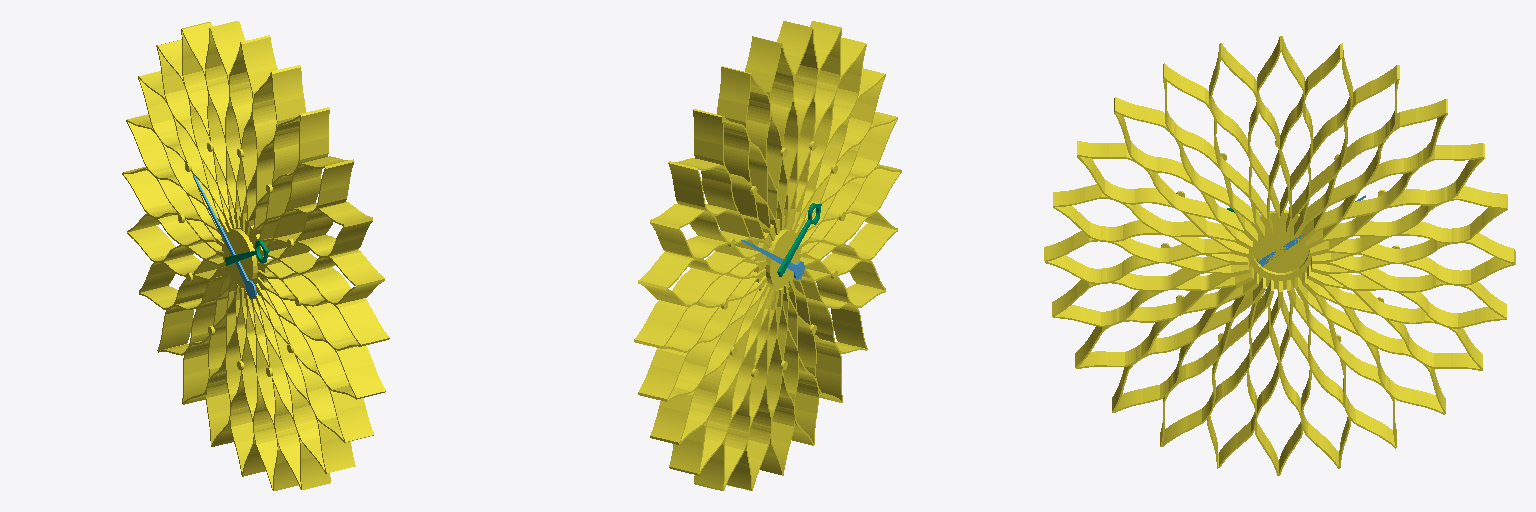
robot.urdf — partnet_de0a333f86fd60713b48a711df82173e:
<?xml version="1.0" ?>
<robot name="partnet_de0a333f86fd60713b48a711df82173e">
	<link name="base"/>
	<link name="link_0">
		<visual name="hand-4">
			<origin xyz="0.07464732501185387 0.04285152069375747 -0.10200399999999998"/>
			<geometry>
				<mesh filename="textured_objs/original-14.obj"/>
			</geometry>
		</visual>
		<collision>
			<origin xyz="0.07464732501185387 0.04285152069375747 -0.10200399999999998"/>
			<geometry>
				<mesh filename="textured_objs/original-14.obj"/>
			</geometry>
		</collision>
	</link>
	<joint name="joint_0" type="continuous">
		<origin xyz="-0.07464732501185387 -0.04285152069375747 0.10200399999999998"/>
		<axis xyz="0 0 1"/>
		<child link="link_0"/>
		<parent link="link_2"/>
	</joint>
	<link name="link_1">
		<visual name="hand-5">
			<origin xyz="0.07464732501185387 0.04285152069375747 -0.10200399999999998"/>
			<geometry>
				<mesh filename="textured_objs/original-13.obj"/>
			</geometry>
		</visual>
		<collision>
			<origin xyz="0.07464732501185387 0.04285152069375747 -0.10200399999999998"/>
			<geometry>
				<mesh filename="textured_objs/original-13.obj"/>
			</geometry>
		</collision>
	</link>
	<joint name="joint_1" type="continuous">
		<origin xyz="-0.07464732501185387 -0.04285152069375747 0.10200399999999998"/>
		<axis xyz="0 0 1"/>
		<child link="link_1"/>
		<parent link="link_2"/>
	</joint>
	<link name="link_2">
		<visual name="frame-3">
			<origin xyz="0 0 0"/>
			<geometry>
				<mesh filename="textured_objs/original-41.obj"/>
			</geometry>
		</visual>
		<visual name="frame-3">
			<origin xyz="0 0 0"/>
			<geometry>
				<mesh filename="textured_objs/original-37.obj"/>
			</geometry>
		</visual>
		<visual name="frame-3">
			<origin xyz="0 0 0"/>
			<geometry>
				<mesh filename="textured_objs/original-22.obj"/>
			</geometry>
		</visual>
		<visual name="frame-3">
			<origin xyz="0 0 0"/>
			<geometry>
				<mesh filename="textured_objs/original-34.obj"/>
			</geometry>
		</visual>
		<visual name="frame-3">
			<origin xyz="0 0 0"/>
			<geometry>
				<mesh filename="textured_objs/original-35.obj"/>
			</geometry>
		</visual>
		<visual name="frame-3">
			<origin xyz="0 0 0"/>
			<geometry>
				<mesh filename="textured_objs/original-18.obj"/>
			</geometry>
		</visual>
		<visual name="frame-3">
			<origin xyz="0 0 0"/>
			<geometry>
				<mesh filename="textured_objs/original-21.obj"/>
			</geometry>
		</visual>
		<visual name="frame-3">
			<origin xyz="0 0 0"/>
			<geometry>
				<mesh filename="textured_objs/original-15.obj"/>
			</geometry>
		</visual>
		<visual name="frame-3">
			<origin xyz="0 0 0"/>
			<geometry>
				<mesh filename="textured_objs/original-16.obj"/>
			</geometry>
		</visual>
		<visual name="frame-3">
			<origin xyz="0 0 0"/>
			<geometry>
				<mesh filename="textured_objs/original-32.obj"/>
			</geometry>
		</visual>
		<visual name="frame-3">
			<origin xyz="0 0 0"/>
			<geometry>
				<mesh filename="textured_objs/original-24.obj"/>
			</geometry>
		</visual>
		<visual name="frame-3">
			<origin xyz="0 0 0"/>
			<geometry>
				<mesh filename="textured_objs/original-40.obj"/>
			</geometry>
		</visual>
		<visual name="frame-3">
			<origin xyz="0 0 0"/>
			<geometry>
				<mesh filename="textured_objs/original-19.obj"/>
			</geometry>
		</visual>
		<visual name="frame-3">
			<origin xyz="0 0 0"/>
			<geometry>
				<mesh filename="textured_objs/original-38.obj"/>
			</geometry>
		</visual>
		<visual name="frame-3">
			<origin xyz="0 0 0"/>
			<geometry>
				<mesh filename="textured_objs/original-36.obj"/>
			</geometry>
		</visual>
		<visual name="frame-3">
			<origin xyz="0 0 0"/>
			<geometry>
				<mesh filename="textured_objs/original-33.obj"/>
			</geometry>
		</visual>
		<visual name="frame-3">
			<origin xyz="0 0 0"/>
			<geometry>
				<mesh filename="textured_objs/original-26.obj"/>
			</geometry>
		</visual>
		<visual name="frame-3">
			<origin xyz="0 0 0"/>
			<geometry>
				<mesh filename="textured_objs/original-25.obj"/>
			</geometry>
		</visual>
		<visual name="frame-3">
			<origin xyz="0 0 0"/>
			<geometry>
				<mesh filename="textured_objs/original-29.obj"/>
			</geometry>
		</visual>
		<visual name="frame-3">
			<origin xyz="0 0 0"/>
			<geometry>
				<mesh filename="textured_objs/original-27.obj"/>
			</geometry>
		</visual>
		<visual name="frame-3">
			<origin xyz="0 0 0"/>
			<geometry>
				<mesh filename="textured_objs/original-20.obj"/>
			</geometry>
		</visual>
		<visual name="frame-3">
			<origin xyz="0 0 0"/>
			<geometry>
				<mesh filename="textured_objs/original-30.obj"/>
			</geometry>
		</visual>
		<visual name="frame-3">
			<origin xyz="0 0 0"/>
			<geometry>
				<mesh filename="textured_objs/original-39.obj"/>
			</geometry>
		</visual>
		<visual name="frame-3">
			<origin xyz="0 0 0"/>
			<geometry>
				<mesh filename="textured_objs/original-28.obj"/>
			</geometry>
		</visual>
		<visual name="frame-3">
			<origin xyz="0 0 0"/>
			<geometry>
				<mesh filename="textured_objs/original-31.obj"/>
			</geometry>
		</visual>
		<visual name="surface-6">
			<origin xyz="0 0 0"/>
			<geometry>
				<mesh filename="textured_objs/original-42.obj"/>
			</geometry>
		</visual>
		<visual name="surface-6">
			<origin xyz="0 0 0"/>
			<geometry>
				<mesh filename="textured_objs/original-2.obj"/>
			</geometry>
		</visual>
		<visual name="surface-6">
			<origin xyz="0 0 0"/>
			<geometry>
				<mesh filename="textured_objs/original-3.obj"/>
			</geometry>
		</visual>
		<visual name="surface-6">
			<origin xyz="0 0 0"/>
			<geometry>
				<mesh filename="textured_objs/original-4.obj"/>
			</geometry>
		</visual>
		<visual name="surface-6">
			<origin xyz="0 0 0"/>
			<geometry>
				<mesh filename="textured_objs/original-5.obj"/>
			</geometry>
		</visual>
		<visual name="surface-6">
			<origin xyz="0 0 0"/>
			<geometry>
				<mesh filename="textured_objs/original-1.obj"/>
			</geometry>
		</visual>
		<visual name="surface-6">
			<origin xyz="0 0 0"/>
			<geometry>
				<mesh filename="textured_objs/original-12.obj"/>
			</geometry>
		</visual>
		<visual name="surface-6">
			<origin xyz="0 0 0"/>
			<geometry>
				<mesh filename="textured_objs/original-11.obj"/>
			</geometry>
		</visual>
		<visual name="surface-6">
			<origin xyz="0 0 0"/>
			<geometry>
				<mesh filename="textured_objs/original-10.obj"/>
			</geometry>
		</visual>
		<visual name="surface-6">
			<origin xyz="0 0 0"/>
			<geometry>
				<mesh filename="textured_objs/original-9.obj"/>
			</geometry>
		</visual>
		<visual name="surface-6">
			<origin xyz="0 0 0"/>
			<geometry>
				<mesh filename="textured_objs/original-8.obj"/>
			</geometry>
		</visual>
		<visual name="surface-6">
			<origin xyz="0 0 0"/>
			<geometry>
				<mesh filename="textured_objs/original-7.obj"/>
			</geometry>
		</visual>
		<visual name="surface-6">
			<origin xyz="0 0 0"/>
			<geometry>
				<mesh filename="textured_objs/original-6.obj"/>
			</geometry>
		</visual>
		<collision>
			<origin xyz="0 0 0"/>
			<geometry>
				<mesh filename="textured_objs/original-41.obj"/>
			</geometry>
		</collision>
		<collision>
			<origin xyz="0 0 0"/>
			<geometry>
				<mesh filename="textured_objs/original-37.obj"/>
			</geometry>
		</collision>
		<collision>
			<origin xyz="0 0 0"/>
			<geometry>
				<mesh filename="textured_objs/original-22.obj"/>
			</geometry>
		</collision>
		<collision>
			<origin xyz="0 0 0"/>
			<geometry>
				<mesh filename="textured_objs/original-34.obj"/>
			</geometry>
		</collision>
		<collision>
			<origin xyz="0 0 0"/>
			<geometry>
				<mesh filename="textured_objs/original-35.obj"/>
			</geometry>
		</collision>
		<collision>
			<origin xyz="0 0 0"/>
			<geometry>
				<mesh filename="textured_objs/original-18.obj"/>
			</geometry>
		</collision>
		<collision>
			<origin xyz="0 0 0"/>
			<geometry>
				<mesh filename="textured_objs/original-21.obj"/>
			</geometry>
		</collision>
		<collision>
			<origin xyz="0 0 0"/>
			<geometry>
				<mesh filename="textured_objs/original-15.obj"/>
			</geometry>
		</collision>
		<collision>
			<origin xyz="0 0 0"/>
			<geometry>
				<mesh filename="textured_objs/original-16.obj"/>
			</geometry>
		</collision>
		<collision>
			<origin xyz="0 0 0"/>
			<geometry>
				<mesh filename="textured_objs/original-32.obj"/>
			</geometry>
		</collision>
		<collision>
			<origin xyz="0 0 0"/>
			<geometry>
				<mesh filename="textured_objs/original-24.obj"/>
			</geometry>
		</collision>
		<collision>
			<origin xyz="0 0 0"/>
			<geometry>
				<mesh filename="textured_objs/original-40.obj"/>
			</geometry>
		</collision>
		<collision>
			<origin xyz="0 0 0"/>
			<geometry>
				<mesh filename="textured_objs/original-19.obj"/>
			</geometry>
		</collision>
		<collision>
			<origin xyz="0 0 0"/>
			<geometry>
				<mesh filename="textured_objs/original-38.obj"/>
			</geometry>
		</collision>
		<collision>
			<origin xyz="0 0 0"/>
			<geometry>
				<mesh filename="textured_objs/original-36.obj"/>
			</geometry>
		</collision>
		<collision>
			<origin xyz="0 0 0"/>
			<geometry>
				<mesh filename="textured_objs/original-33.obj"/>
			</geometry>
		</collision>
		<collision>
			<origin xyz="0 0 0"/>
			<geometry>
				<mesh filename="textured_objs/original-26.obj"/>
			</geometry>
		</collision>
		<collision>
			<origin xyz="0 0 0"/>
			<geometry>
				<mesh filename="textured_objs/original-25.obj"/>
			</geometry>
		</collision>
		<collision>
			<origin xyz="0 0 0"/>
			<geometry>
				<mesh filename="textured_objs/original-29.obj"/>
			</geometry>
		</collision>
		<collision>
			<origin xyz="0 0 0"/>
			<geometry>
				<mesh filename="textured_objs/original-27.obj"/>
			</geometry>
		</collision>
		<collision>
			<origin xyz="0 0 0"/>
			<geometry>
				<mesh filename="textured_objs/original-20.obj"/>
			</geometry>
		</collision>
		<collision>
			<origin xyz="0 0 0"/>
			<geometry>
				<mesh filename="textured_objs/original-30.obj"/>
			</geometry>
		</collision>
		<collision>
			<origin xyz="0 0 0"/>
			<geometry>
				<mesh filename="textured_objs/original-39.obj"/>
			</geometry>
		</collision>
		<collision>
			<origin xyz="0 0 0"/>
			<geometry>
				<mesh filename="textured_objs/original-28.obj"/>
			</geometry>
		</collision>
		<collision>
			<origin xyz="0 0 0"/>
			<geometry>
				<mesh filename="textured_objs/original-31.obj"/>
			</geometry>
		</collision>
		<collision>
			<origin xyz="0 0 0"/>
			<geometry>
				<mesh filename="textured_objs/original-42.obj"/>
			</geometry>
		</collision>
		<collision>
			<origin xyz="0 0 0"/>
			<geometry>
				<mesh filename="textured_objs/original-2.obj"/>
			</geometry>
		</collision>
		<collision>
			<origin xyz="0 0 0"/>
			<geometry>
				<mesh filename="textured_objs/original-3.obj"/>
			</geometry>
		</collision>
		<collision>
			<origin xyz="0 0 0"/>
			<geometry>
				<mesh filename="textured_objs/original-4.obj"/>
			</geometry>
		</collision>
		<collision>
			<origin xyz="0 0 0"/>
			<geometry>
				<mesh filename="textured_objs/original-5.obj"/>
			</geometry>
		</collision>
		<collision>
			<origin xyz="0 0 0"/>
			<geometry>
				<mesh filename="textured_objs/original-1.obj"/>
			</geometry>
		</collision>
		<collision>
			<origin xyz="0 0 0"/>
			<geometry>
				<mesh filename="textured_objs/original-12.obj"/>
			</geometry>
		</collision>
		<collision>
			<origin xyz="0 0 0"/>
			<geometry>
				<mesh filename="textured_objs/original-11.obj"/>
			</geometry>
		</collision>
		<collision>
			<origin xyz="0 0 0"/>
			<geometry>
				<mesh filename="textured_objs/original-10.obj"/>
			</geometry>
		</collision>
		<collision>
			<origin xyz="0 0 0"/>
			<geometry>
				<mesh filename="textured_objs/original-9.obj"/>
			</geometry>
		</collision>
		<collision>
			<origin xyz="0 0 0"/>
			<geometry>
				<mesh filename="textured_objs/original-8.obj"/>
			</geometry>
		</collision>
		<collision>
			<origin xyz="0 0 0"/>
			<geometry>
				<mesh filename="textured_objs/original-7.obj"/>
			</geometry>
		</collision>
		<collision>
			<origin xyz="0 0 0"/>
			<geometry>
				<mesh filename="textured_objs/original-6.obj"/>
			</geometry>
		</collision>
	</link>
	<joint name="joint_2" type="fixed">
		<origin rpy="1.570796326794897 0 -1.570796326794897" xyz="0 0 0"/>
		<child link="link_2"/>
		<parent link="base"/>
	</joint>
</robot>

--- Facts derived from the render (not from the file) ---
Views: 3 orthographic renders of the robot side by side, from view 1: azimuth 30°, elevation 25°; view 2: azimuth 150°, elevation 25°; view 3: azimuth 270°, elevation 25°.
Model partnet_de0a333f86fd60713b48a711df82173e with 4 links and 3 joints (2 continuous, 1 fixed), rooted at base, posed every joint at zero.
Links seen in each view (by area): view 1: link_2, link_0; view 2: link_2, link_1; view 3: link_2.
Link boxes in pixels (x1=…): link_2: x1=122, y1=21, x2=389, y2=490; link_0: x1=193, y1=176, x2=256, y2=298; link_2: x1=634, y1=21, x2=901, y2=490; link_1: x1=777, y1=203, x2=821, y2=276; link_2: x1=1044, y1=36, x2=1515, y2=475.
Bounding box of the posed robot: 0.1693 × 1.93 × 1.93 m (x, y, z).
Meshes: 40 distinct files referenced, 40 mesh visuals loaded (40 OBJ).
